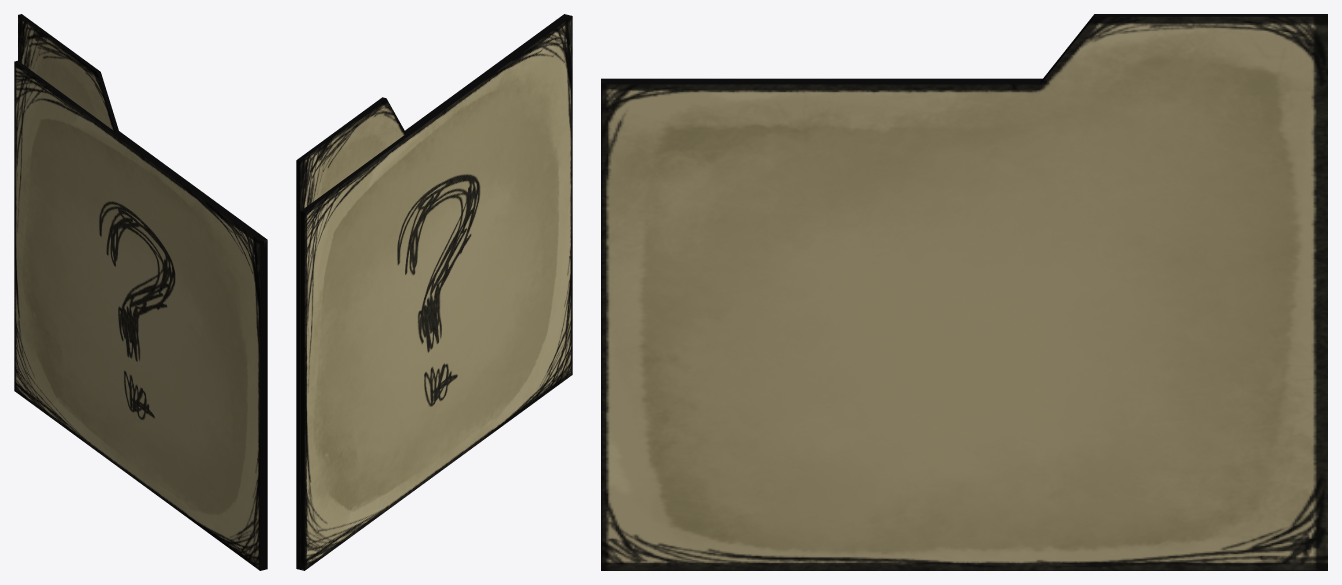
File: folder_buzzer.fbx
3 views of the same model, side by side, from view 1: azimuth 30°, elevation 25°; view 2: azimuth 150°, elevation 25°; view 3: azimuth 270°, elevation 25° (orthographic). The views are drawn at different scales.
Parts seen in each view (by area): view 1: folder_front.010, folder_buzzer; view 2: folder_front.010, folder_buzzer; view 3: folder_buzzer, folder_front.010.
Boxes of the visible parts, box(x1,y1,x2,y2) form: folder_front.010: box(14, 60, 263, 570); folder_buzzer: box(18, 14, 267, 569); folder_front.010: box(300, 15, 572, 570); folder_buzzer: box(296, 14, 567, 569); folder_buzzer: box(601, 14, 1327, 570); folder_front.010: box(601, 78, 1042, 81).
Size of the model in its own units: 0.0113 by 0.5374 by 0.6385.
2 materials, 2 textured.
